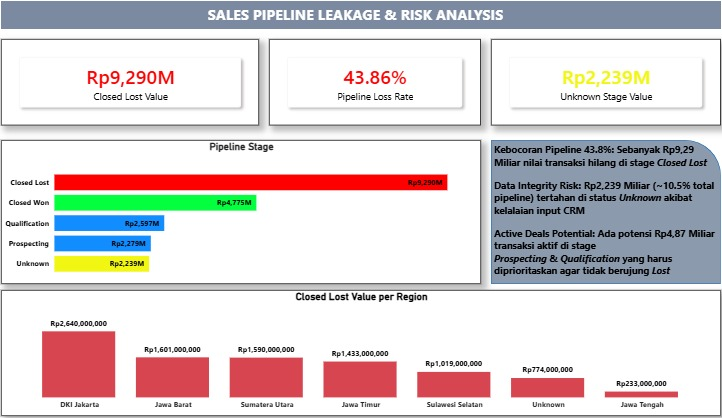

The page's visual inventory and layout, read from the dashboard file:
{"tool":"powerbi","page":{"name":"Pipeline Leakage & Data Risk","canvas":[1280,720],"ordinal":2},"visuals":[{"type":"shape","box":[840,243.3,383.3,240],"z":0},{"type":"shape","box":[23.3,11.7,1200,46.7],"z":1000},{"type":"textbox","box":[341.7,11.7,545,45],"z":2000},{"type":"cardVisual","title":"asdsa","fields":{"Data":["Measure.Closed Lost Value"]},"box":[23.6,75,430,144.3],"z":3000},{"type":"cardVisual","fields":{"Data":["Measure.Loss Rate %"]},"box":[470.7,75,352.9,144.3],"z":4000},{"type":"cardVisual","fields":{"Data":["Measure.Unknown Stage Value"]},"box":[840.7,75,382.9,144.3],"z":5000},{"type":"clusteredBarChart","title":"Pipeline Stage","fields":{"Category":["v_clean_deals.clean_stage"],"Y":["Sum(v_clean_deals.clean_deal_value)"]},"box":[23.3,243.3,800,240],"z":6000},{"type":"textbox","box":[840,243.3,383.3,261.7],"z":7000},{"type":"clusteredColumnChart","title":"Closed Lost Value per Region","fields":{"Category":["v_clean_customers.clean_province"],"Y":["Measure.Closed Lost Value"]},"box":[23.3,493.3,1200,210],"z":8000}]}

Visuals, with their boxes in screenshot pixels (x1, y1, x2, y2), scaled from the page's 1280x720 canvas onto the 722x418 screenshot:
shape: left=474, top=141, right=690, bottom=281
shape: left=13, top=7, right=690, bottom=34
textbox: left=193, top=7, right=500, bottom=33
"asdsa" cardVisual: left=13, top=44, right=256, bottom=127
cardVisual - Measure.Loss Rate %: left=266, top=44, right=465, bottom=127
cardVisual - Measure.Unknown Stage Value: left=474, top=44, right=690, bottom=127
"Pipeline Stage" clusteredBarChart: left=13, top=141, right=464, bottom=281
textbox: left=474, top=141, right=690, bottom=293
"Closed Lost Value per Region" clusteredColumnChart: left=13, top=286, right=690, bottom=408
